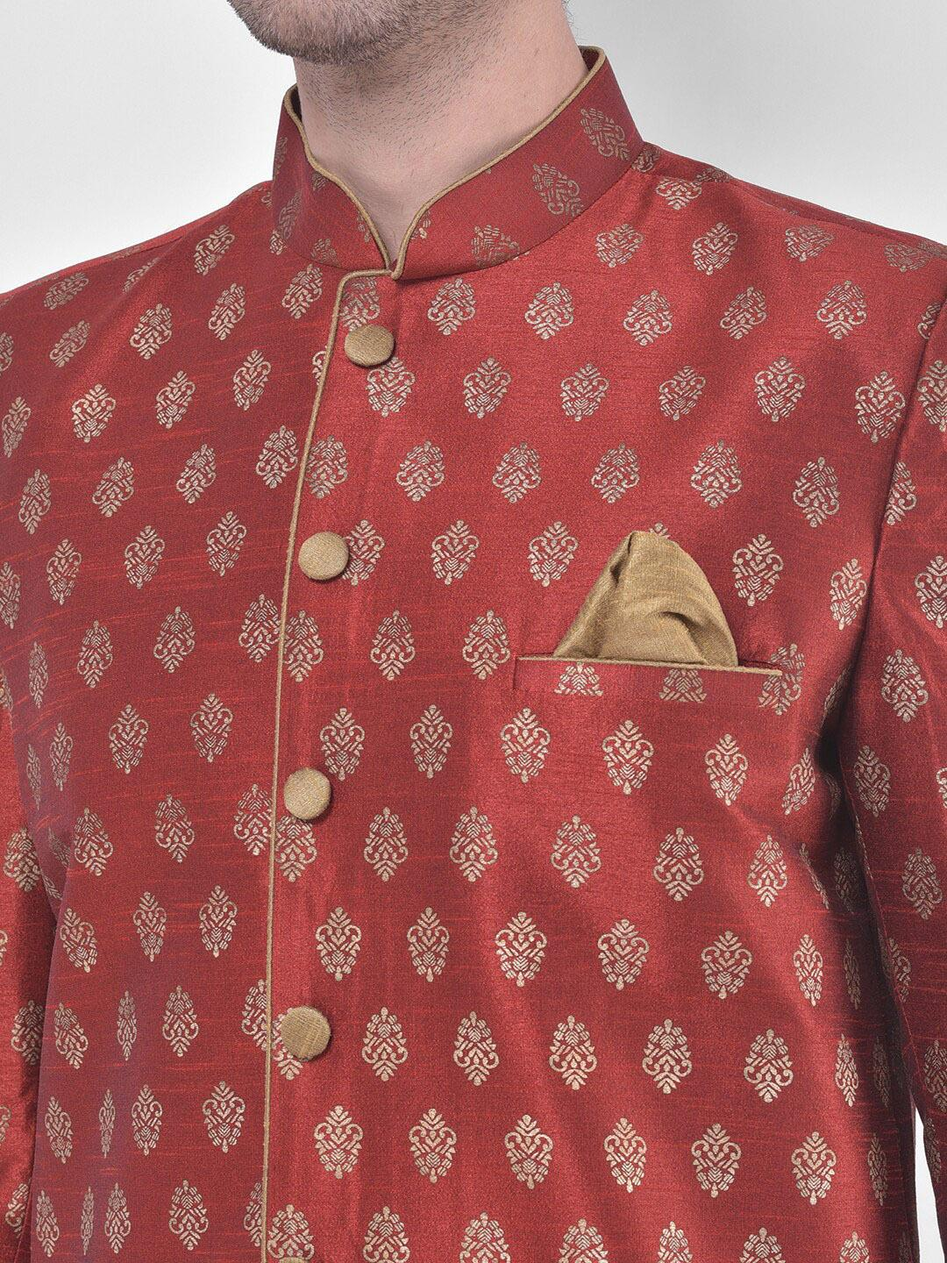Design Sherwani: (4, 39, 943, 1261)
